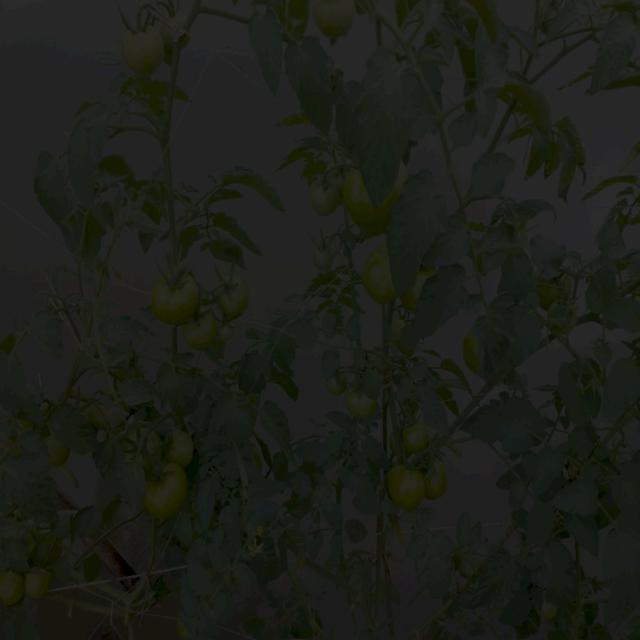tomato: (155, 268, 204, 322), (150, 454, 190, 517), (364, 246, 400, 313), (121, 27, 171, 73), (341, 176, 376, 232), (310, 1, 365, 33), (212, 272, 249, 319), (392, 460, 428, 508), (184, 310, 222, 348), (163, 421, 196, 462), (129, 421, 159, 465), (461, 333, 491, 375), (536, 272, 571, 305), (46, 430, 75, 468), (401, 424, 438, 453), (428, 460, 452, 503), (352, 390, 384, 422), (27, 566, 54, 599), (314, 182, 338, 216), (7, 570, 28, 602), (318, 239, 338, 271), (328, 371, 346, 394), (541, 600, 563, 616), (338, 364, 352, 382)
